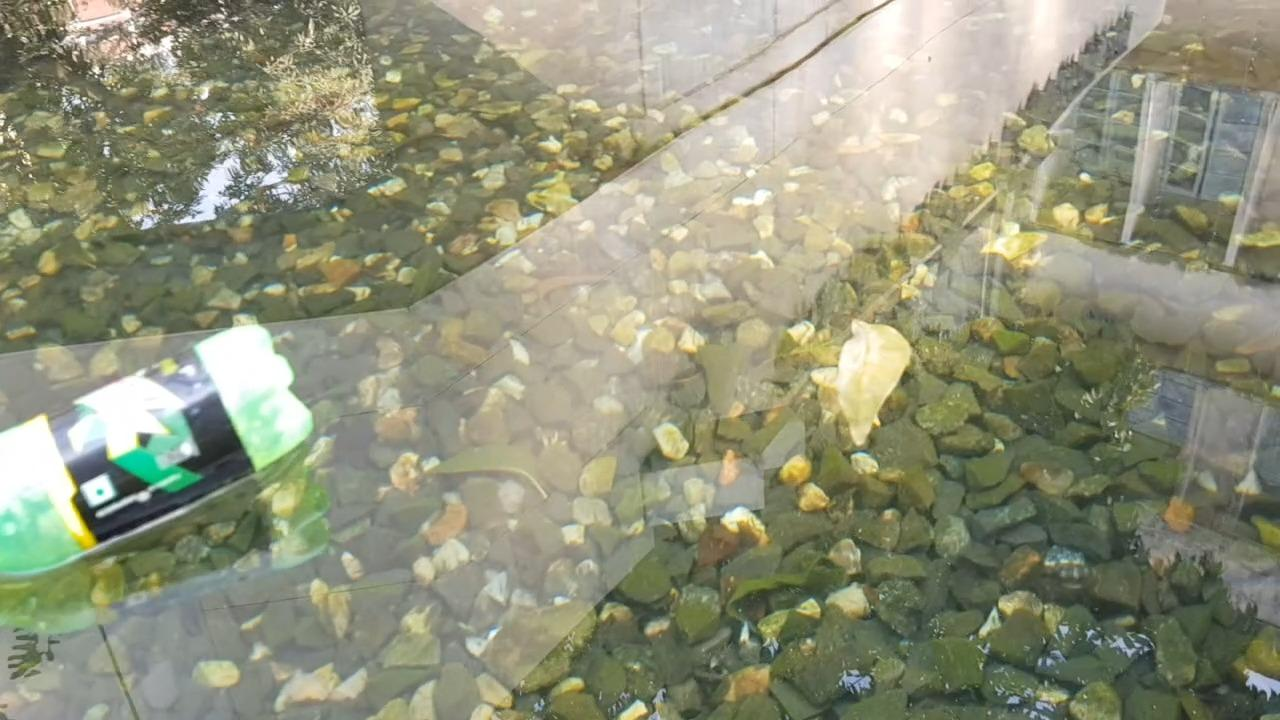trash_plastic: (3, 325, 307, 571)
